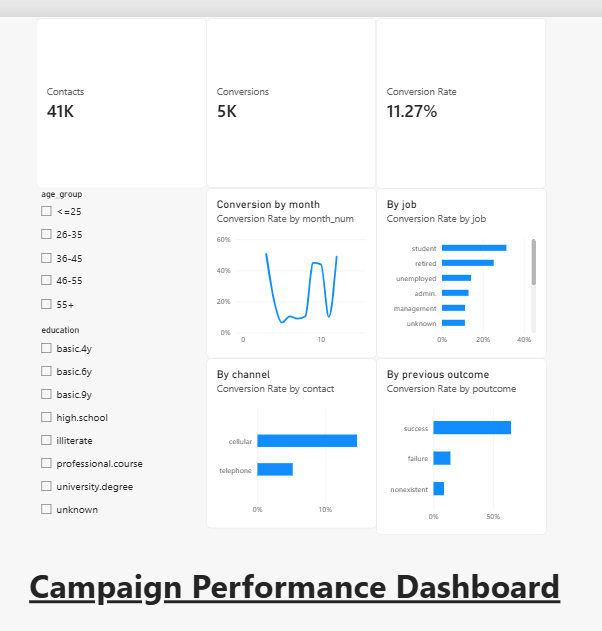

The page's visual inventory and layout, read from the dashboard file:
{"tool":"powerbi","page":{"name":"Page 1","canvas":[1920,1080],"ordinal":0},"visuals":[{"type":"cardVisual","fields":{"Data":["clean.Contacts"]},"box":[548.3,1.6,280,280],"z":1000},{"type":"lineChart","title":"Conversion by month","fields":{"Category":["clean.month_num"],"Y":["clean.Conversion Rate"]},"box":[828.3,281.6,280,280],"z":1001},{"type":"barChart","title":"By channel","fields":{"Category":["clean.contact"],"Y":["clean.Conversion Rate"]},"box":[828.3,561.5,279.9,279.9],"z":1002},{"type":"barChart","title":"By job","fields":{"Category":["clean.job"],"Y":["clean.Conversion Rate"]},"box":[1108.2,281.6,280,280],"z":1003},{"type":"barChart","title":"By previous outcome","fields":{"Category":["clean.poutcome"],"Y":["clean.Conversion Rate"]},"box":[1108.2,561.5,279.9,290.2],"z":1004},{"type":"slicer","fields":{"Values":["clean.age_group"]},"box":[548.3,281.6,280,280],"z":1005},{"type":"slicer","fields":{"Values":["clean.education"]},"box":[548.3,505.9,279.9,335.5],"z":1006},{"type":"cardVisual","fields":{"Data":["clean.Conversions"]},"box":[828.3,1.6,279.9,279.9],"z":1007},{"type":"cardVisual","fields":{"Data":["clean.Conversion Rate"]},"box":[1108.2,1.6,279,280],"z":1008},{"type":"textbox","box":[0,850.1,1920.4,230.5],"z":1009}]}

Visuals, with their boxes on the page's 1920x1080 design canvas (x1, y1, x2, y2). These are canvas units, not pixel positions in the 602x631 screenshot, which may show the page scaled, cropped or inside an application window:
cardVisual - clean.Contacts: [548,2,828,282]
"Conversion by month" lineChart: [828,282,1108,562]
"By channel" barChart: [828,562,1108,841]
"By job" barChart: [1108,282,1388,562]
"By previous outcome" barChart: [1108,562,1388,852]
slicer - clean.age_group: [548,282,828,562]
slicer - clean.education: [548,506,828,841]
cardVisual - clean.Conversions: [828,2,1108,282]
cardVisual - clean.Conversion Rate: [1108,2,1387,282]
textbox: [0,850,1920,1081]
